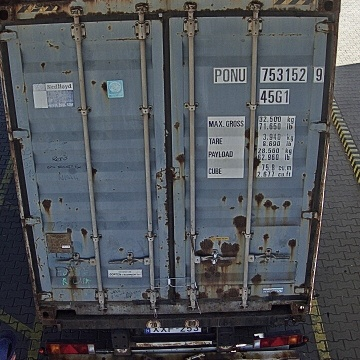serial_id: (214, 67, 324, 82)
